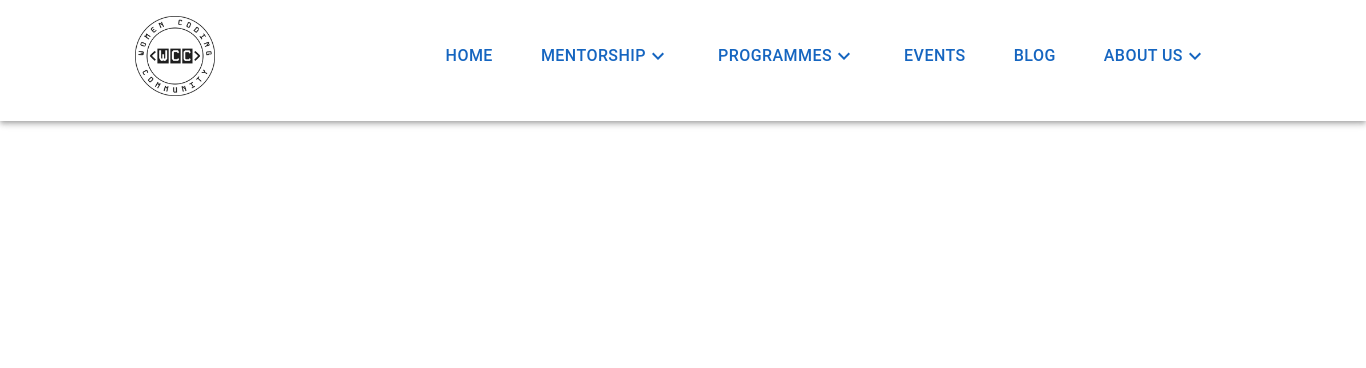
it: NavBar › should show submenu on click in desktop
What coordinates should you click on to do the following:
click the button "Programmes"
I would click on:
 (787, 56)
Its box is x1=694 y1=42 x2=880 y2=70.
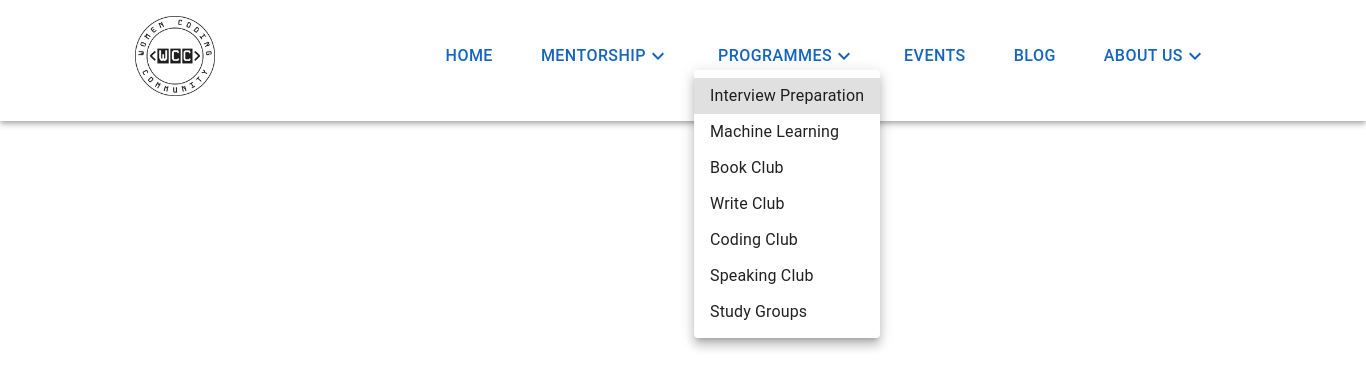
expect the text "Book Club" is shown: met, box x1=710 y1=156 x2=784 y2=180
